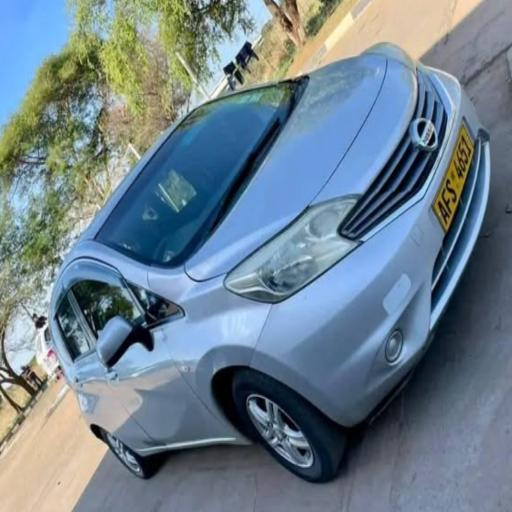number-plates: (434, 117, 476, 228)
